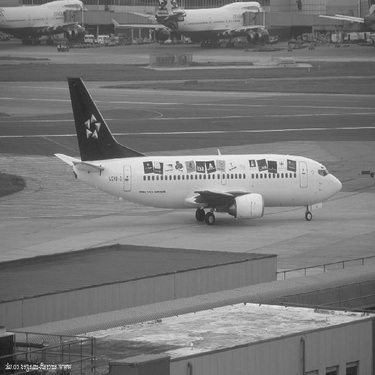airplane: (27, 58, 345, 234), (103, 1, 294, 46), (1, 10, 96, 45), (312, 1, 371, 41)
